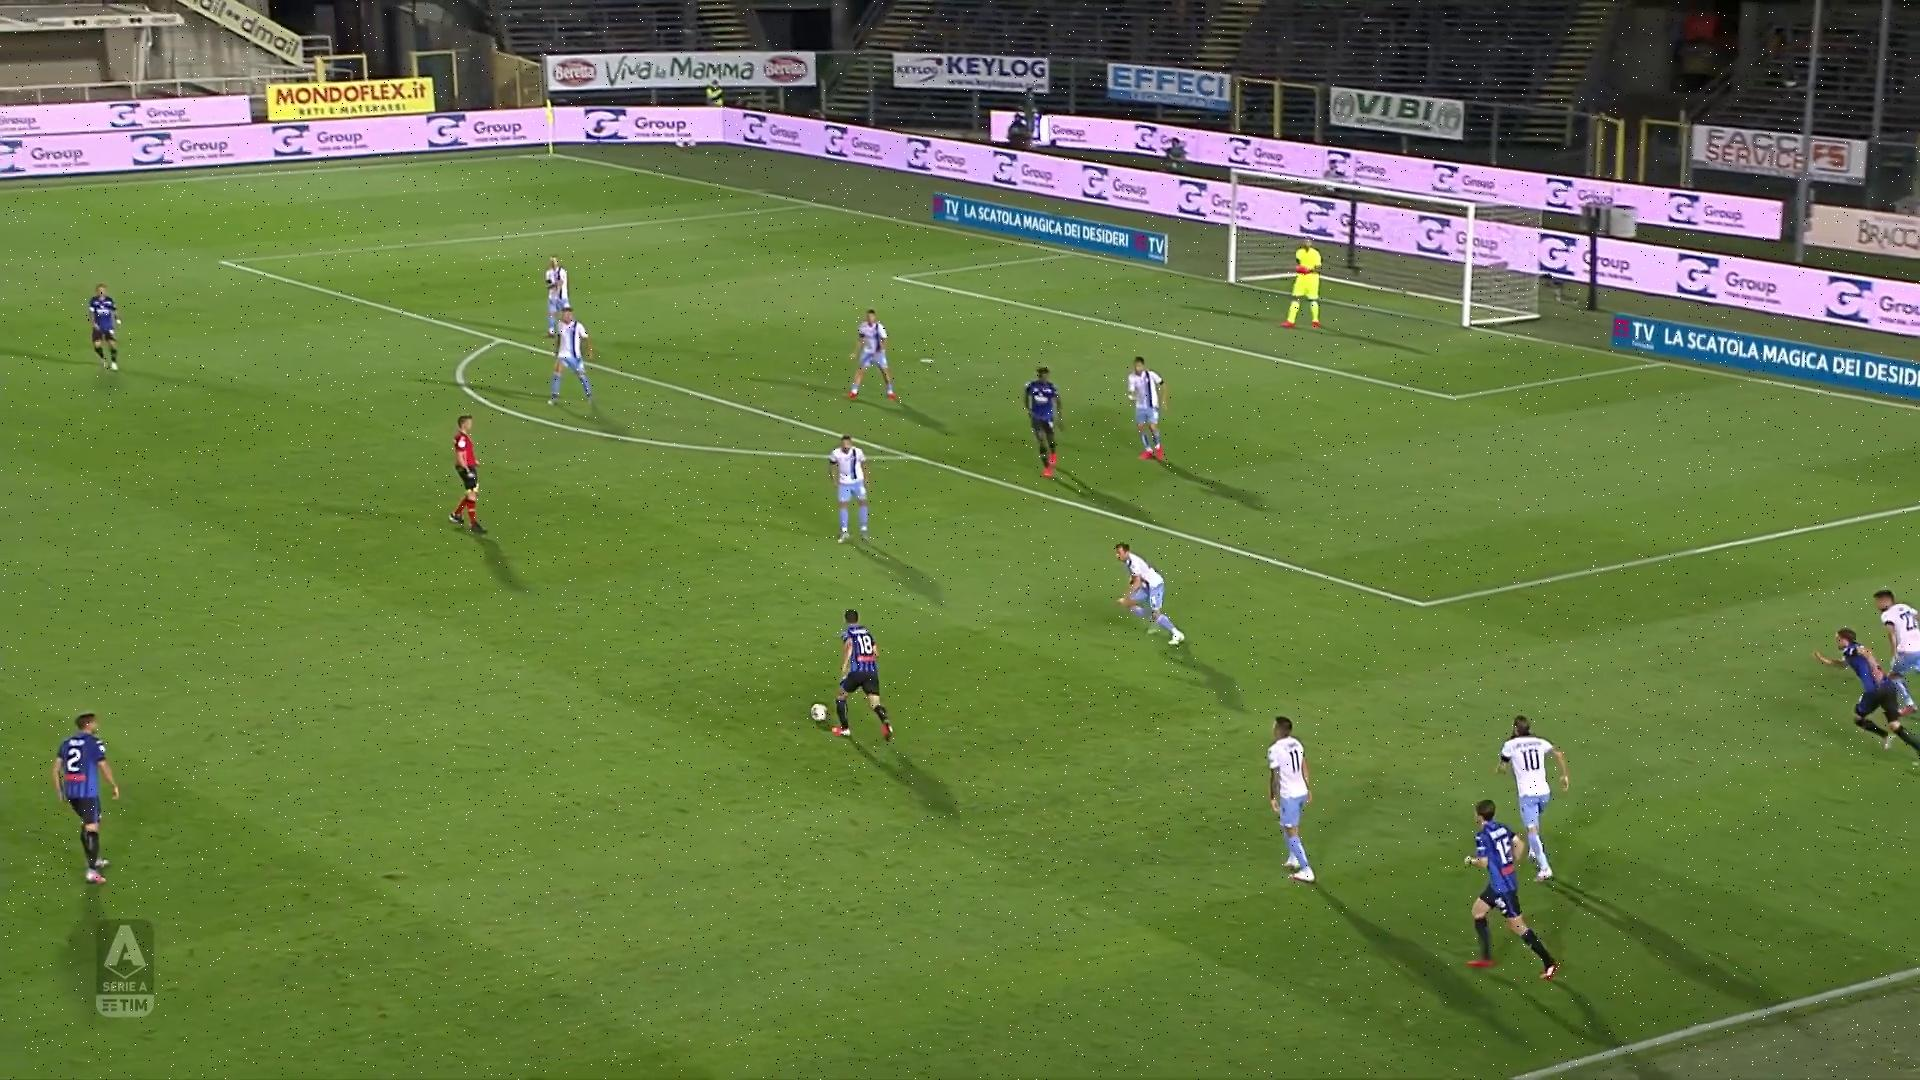ball: (810, 703, 831, 724)
